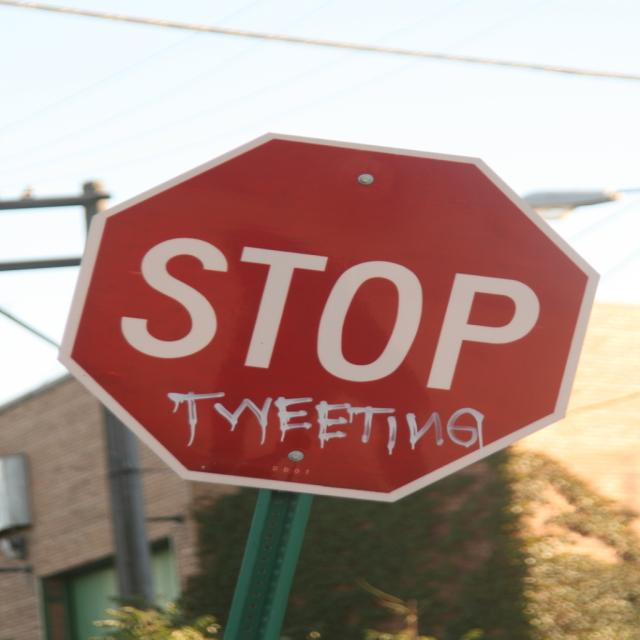Stop-sign: (56, 132, 604, 498)
